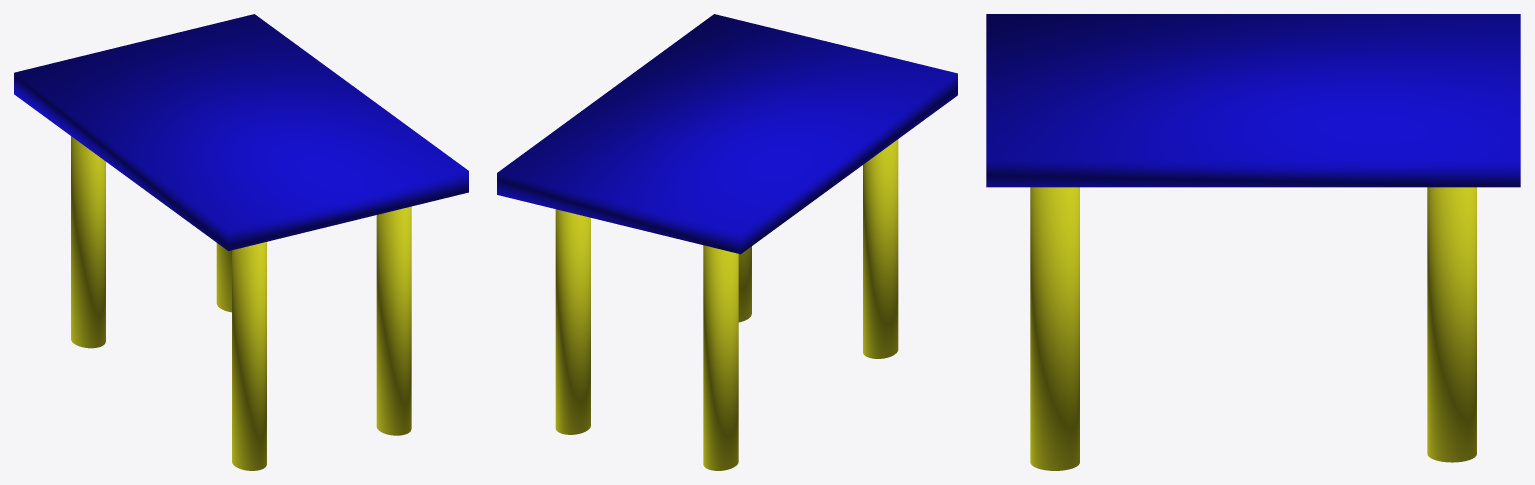
The model's file is obsttask204.obj.
The picture shows the model from 3 angles, left to right: view 1: azimuth 30°, elevation 25°; view 2: azimuth 150°, elevation 25°; view 3: azimuth 270°, elevation 25°; orthographic projection. The views are drawn at different scales.
Visible parts, largest first — view 1: Cube; view 2: Cube; view 3: Cube.
Part boxes in pixels (x1,y1,x2,y2): Cube: [14, 14, 468, 470]; Cube: [497, 14, 957, 470]; Cube: [986, 14, 1520, 470].
Size of the model in its own units: 3.02 by 3.18 by 4.65.
